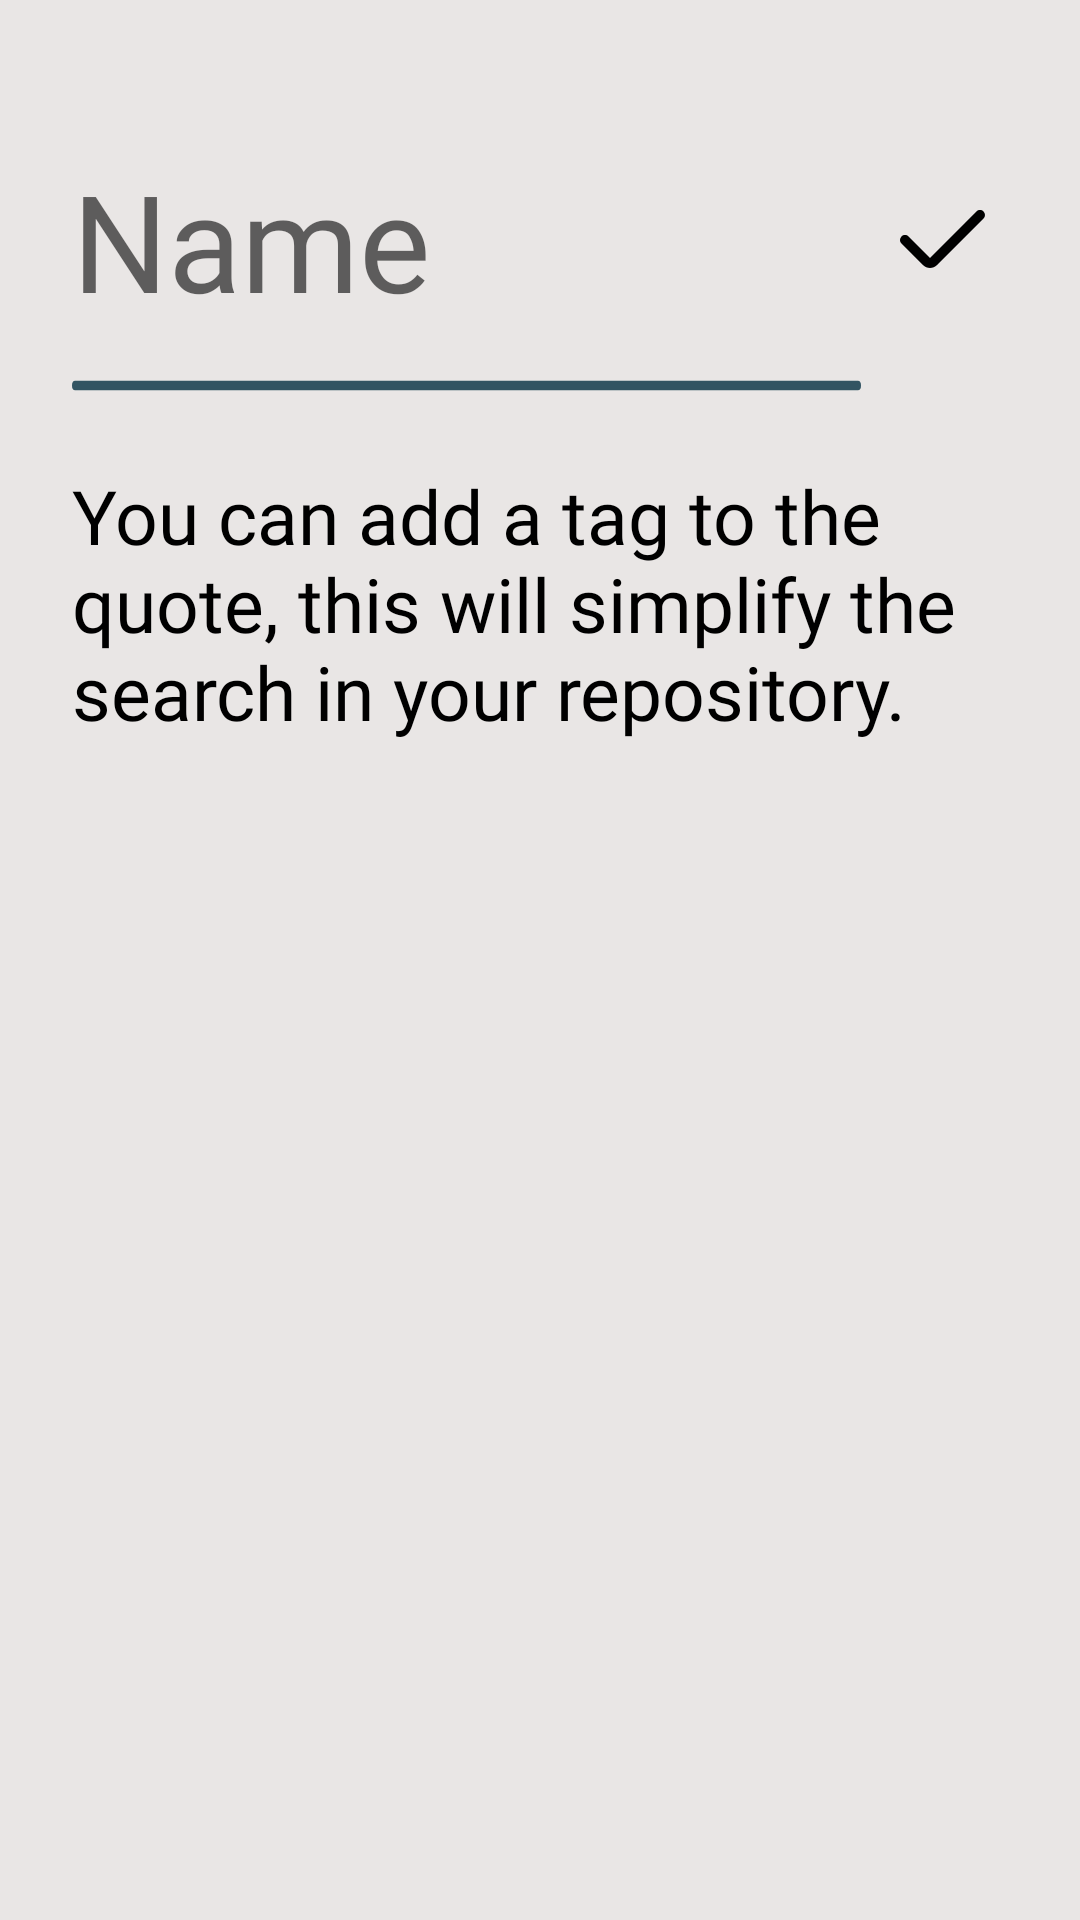

Where to tap for icons on this 1080×1920 app screen, as (x=x, y=y):
Icon confirm: (x=942, y=239)
